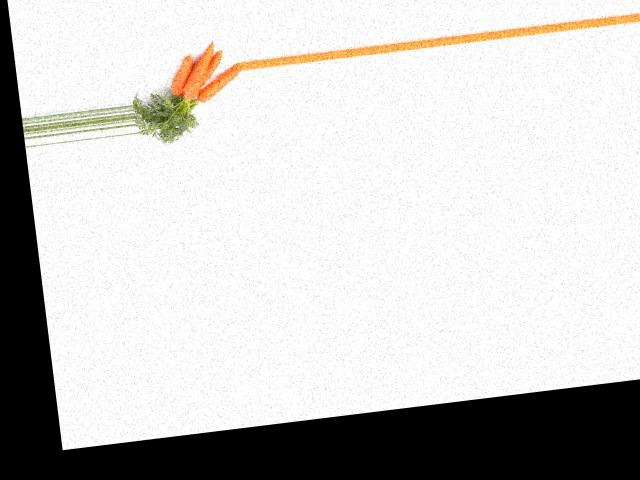carrot: (165, 50, 199, 100)
